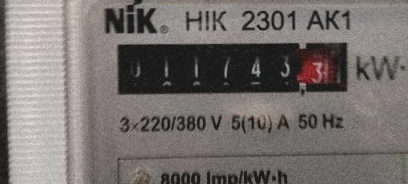0: (128, 51, 142, 80)
1: (189, 50, 201, 78), (160, 51, 170, 78)
3: (278, 51, 292, 78), (309, 59, 323, 85)
4: (248, 52, 262, 79)
7: (218, 49, 233, 78)
screen: (105, 28, 360, 107)
